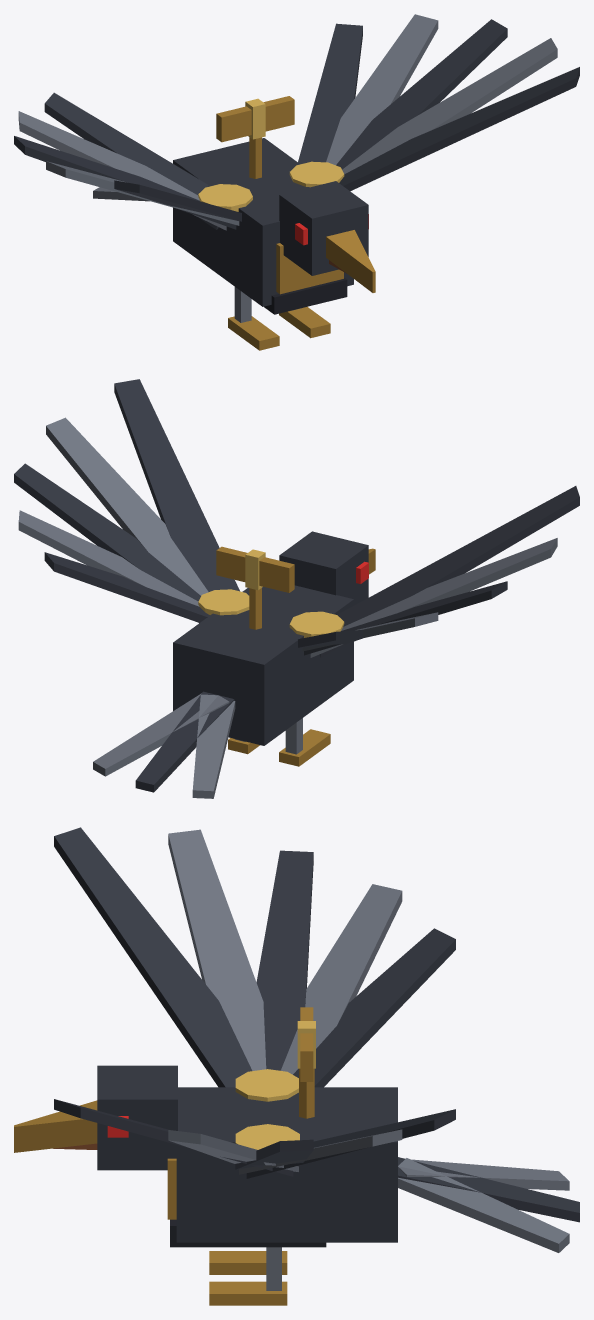
The model's file is ClockworkCrow.glb.
The picture shows the model from 3 angles, top to bottom: view 1: azimuth 30°, elevation 25°; view 2: azimuth 150°, elevation 25°; view 3: azimuth 270°, elevation 25°; orthographic projection. The views are drawn at different scales.
Parts seen in each view (by area): view 1: ClockworkCrow; view 2: ClockworkCrow; view 3: ClockworkCrow.
Part boxes in pixels (x1=…): ClockworkCrow: x1=14, y1=14, x2=579, y2=350; ClockworkCrow: x1=14, y1=379, x2=579, y2=798; ClockworkCrow: x1=14, y1=827, x2=579, y2=1305.
Bounding box in the file's own units: 5.53 × 2.69 × 4.35.
1 material, 1 textured.
